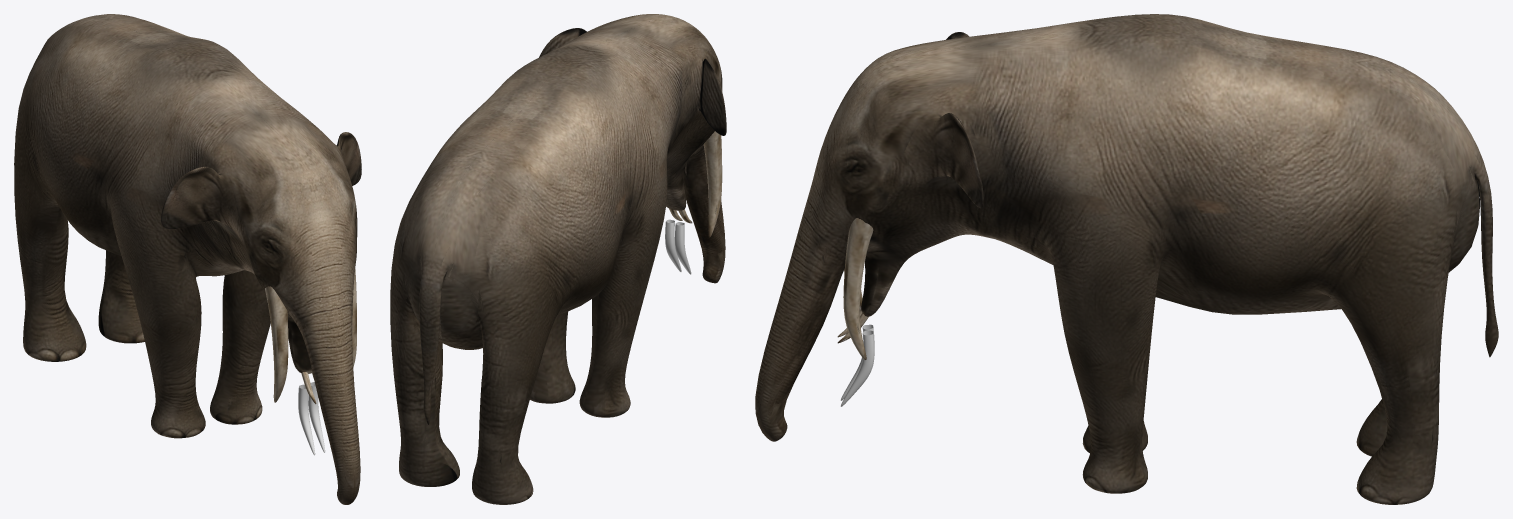
Rendered from 04 Tetralophodon sp. (ช้างเตตระโลโฟดอน).fbx.
The picture shows the model from 3 angles, left to right: view 1: azimuth 30°, elevation 25°; view 2: azimuth 150°, elevation 25°; view 3: azimuth 270°, elevation 25°; orthographic projection. The views are drawn at different scales.
Parts seen in each view (by area): view 1: Cube, Cube.001, Cube.002; view 2: Cube, Cube.001, Cube.002; view 3: Cube, Cube.001, Cube.002.
Boxes of the visible parts, left/top/right/bottom form: Cube: left=14, top=14, right=361, bottom=504; Cube.001: left=265, top=269, right=356, bottom=402; Cube.002: left=298, top=382, right=325, bottom=455; Cube: left=390, top=14, right=726, bottom=504; Cube.001: left=703, top=131, right=722, bottom=237; Cube.002: left=665, top=219, right=691, bottom=274; Cube: left=755, top=14, right=1498, bottom=504; Cube.001: left=843, top=218, right=873, bottom=359; Cube.002: left=840, top=324, right=874, bottom=406.
Size of the model in its own units: 492 by 847 by 1291.
1 material, 1 textured.
